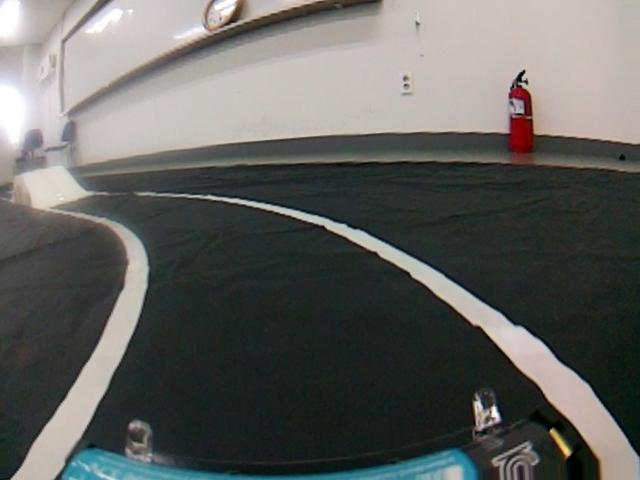straight: (23, 222, 633, 474)
